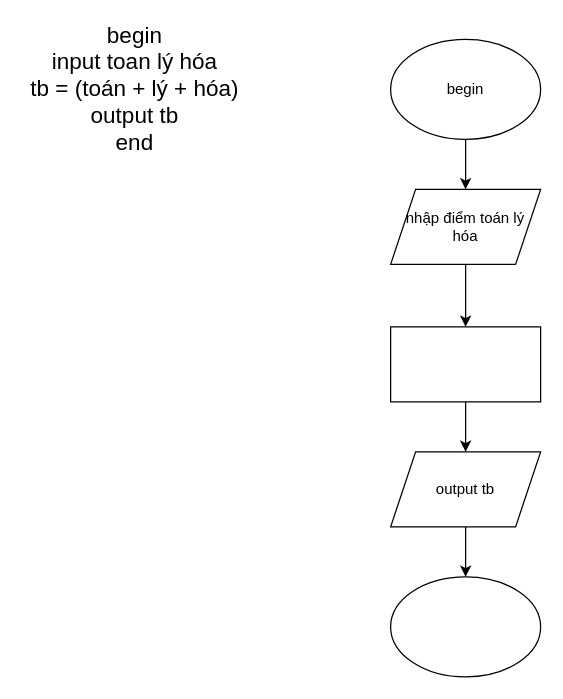
The diagram is 563 pixels wide and 699 high, and some of its shapes have lost their labels. The shapes that lost their labels are listed below. From the top down, each one's box as (x1, y1, x2, y2) in pixels, then its label:
(389, 326, 541, 402): tb=(toán+lý+hóa)
(389, 576, 541, 677): end
